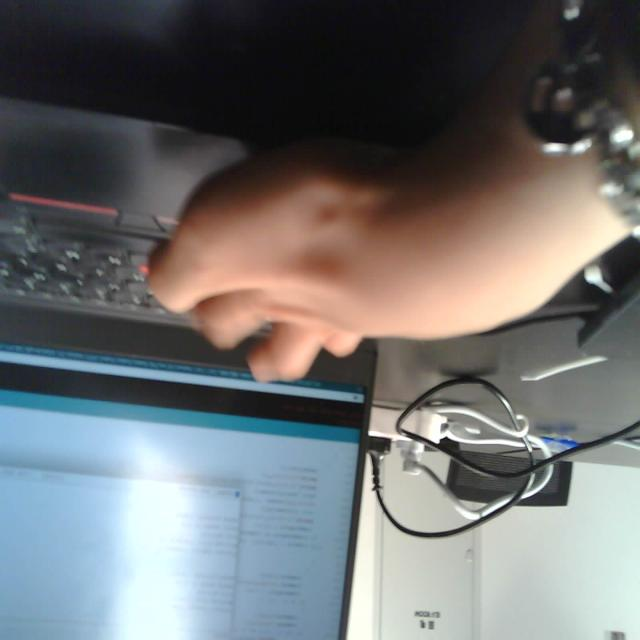keyboard-with-hands: (0, 97, 399, 350)
